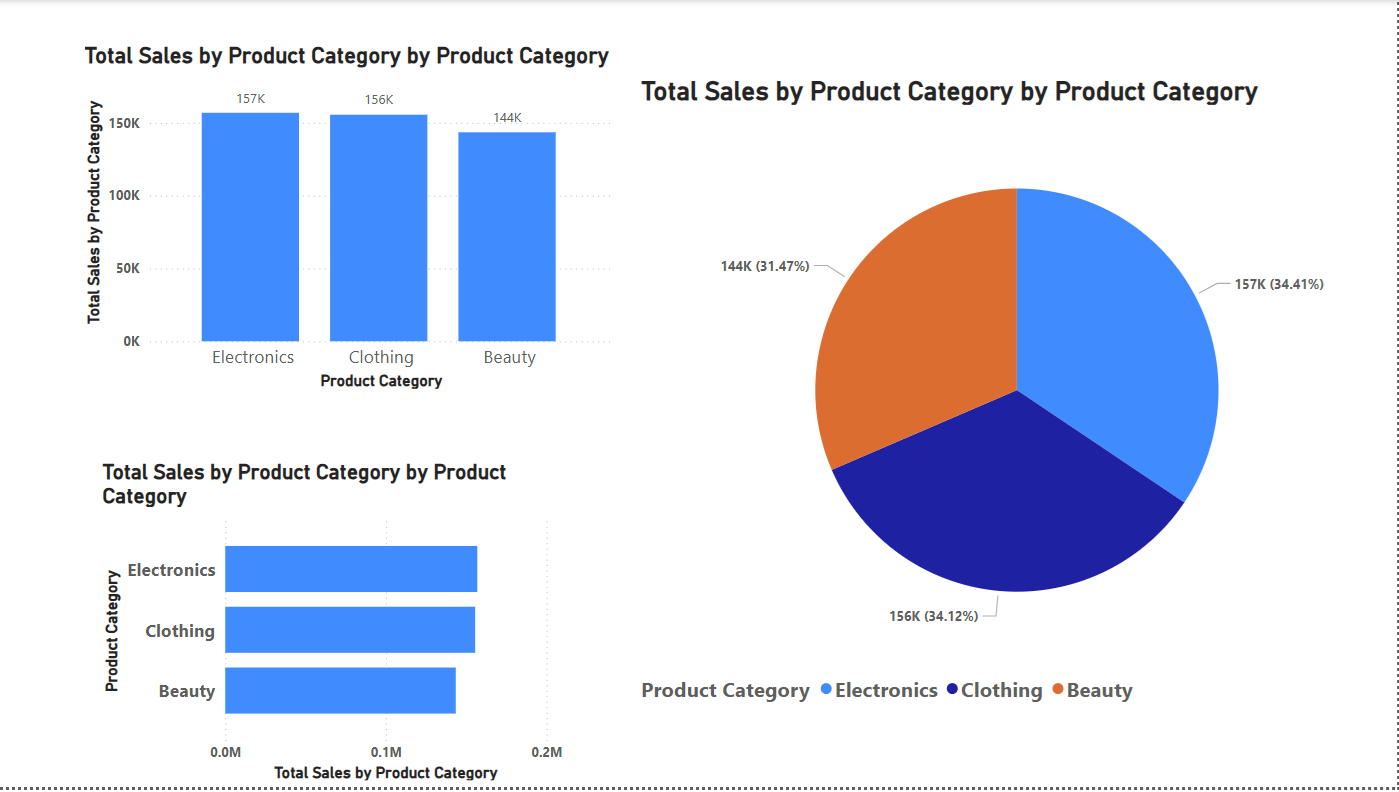

The dashboard page shown, as its layout file describes it:
{"tool":"powerbi","page":{"name":"Page 1","canvas":[1280,720],"ordinal":0},"visuals":[{"type":"clusteredColumnChart","fields":{"Category":["retail_sales_data.Product Category"],"Y":["Sum(retail_sales_data.Total Amount)"]},"box":[74.1,38.4,492.7,322.5],"z":0},{"type":"pieChart","fields":{"Category":["retail_sales_data.Product Category"],"Y":["Sum(retail_sales_data.Total Amount)"]},"box":[583.2,68.6,697.1,583.2],"z":1000},{"type":"clusteredBarChart","fields":{"Category":["retail_sales_data.Product Category"],"Y":["Sum(retail_sales_data.Total Amount)"]},"box":[90.6,419.9,430.9,299.2],"z":2000}]}

Visuals, with their boxes in screenshot pixels (x1, y1, x2, y2), scaled from the page's 1280x720 canvas onto the 1399x792 screenshot:
clusteredColumnChart - retail_sales_data.Product Category x Sum(retail_sales_data.Total Amount): bbox(81, 42, 619, 397)
pieChart - retail_sales_data.Product Category x Sum(retail_sales_data.Total Amount): bbox(637, 75, 1398, 717)
clusteredBarChart - retail_sales_data.Product Category x Sum(retail_sales_data.Total Amount): bbox(99, 462, 570, 791)
